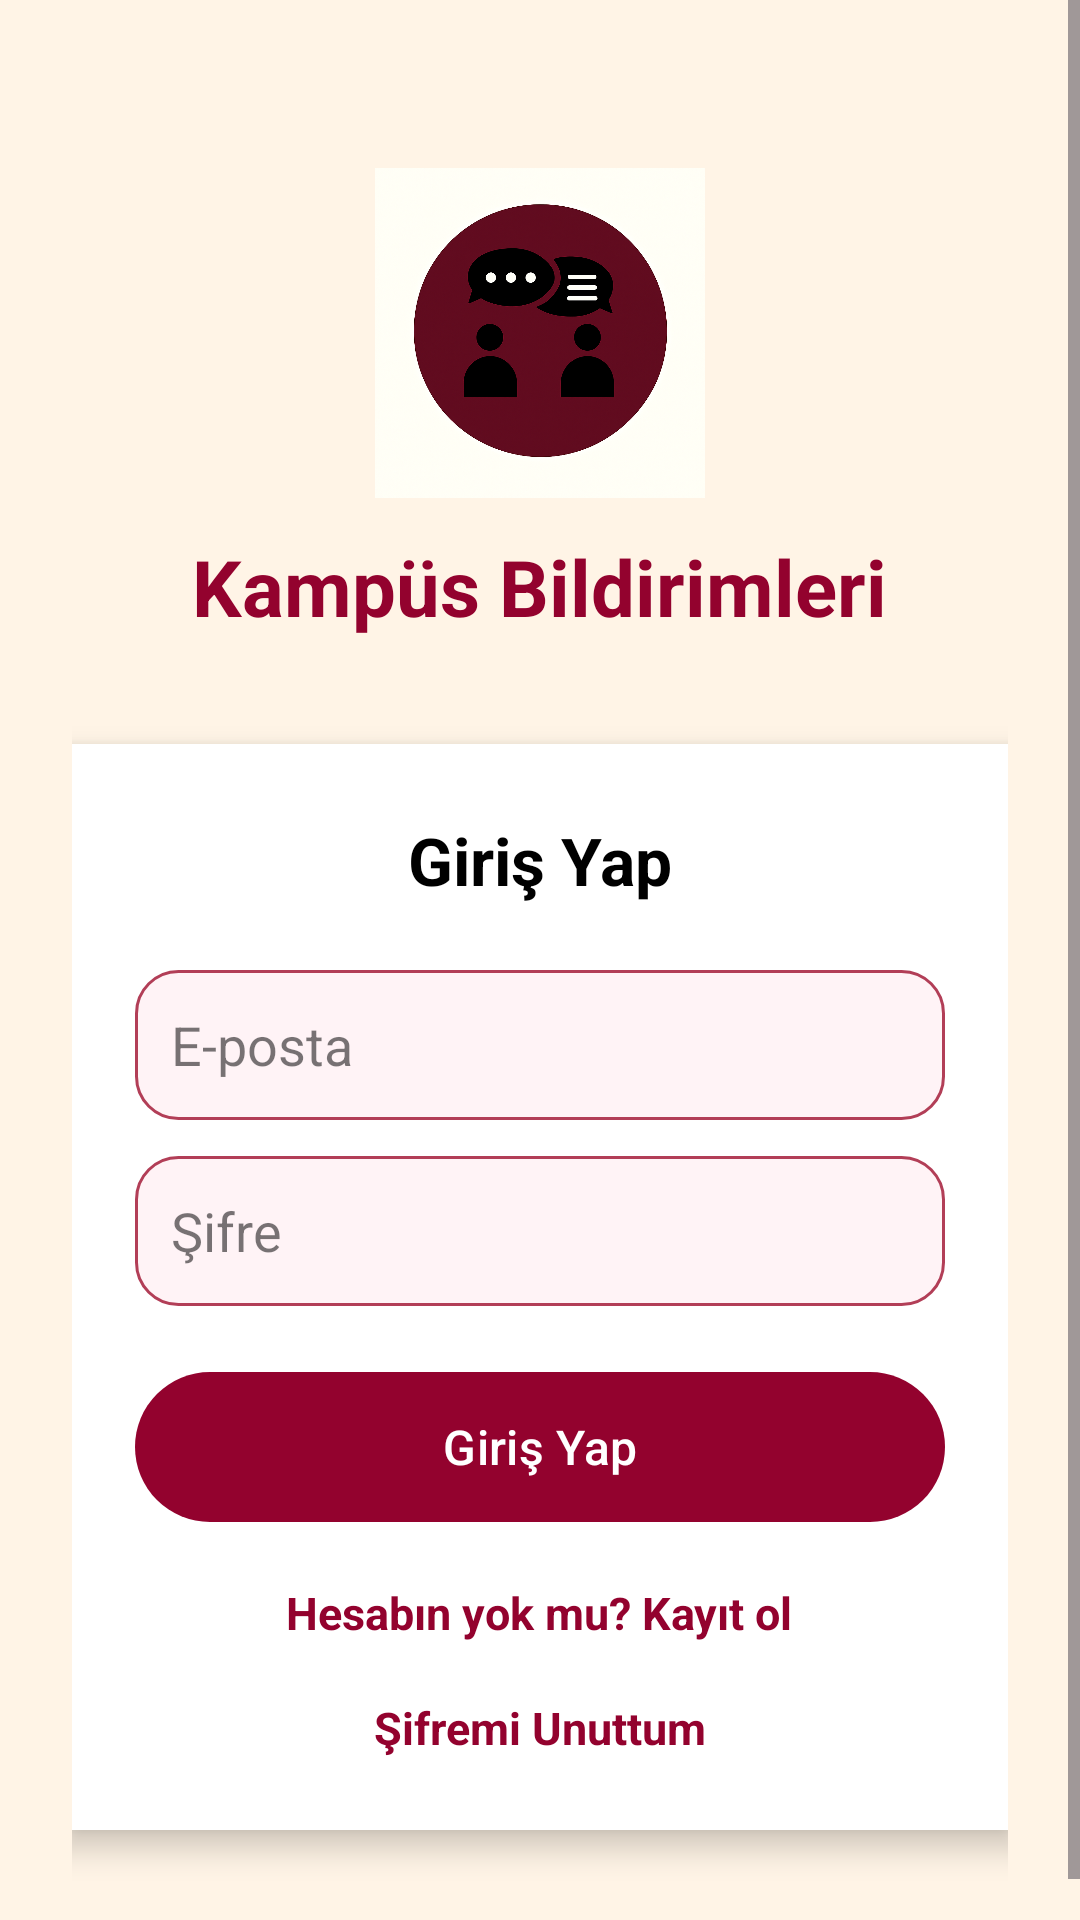

Named icons in this screenshot (1080×1920) and their centers, (x=x, y=y):
communication: (x=540, y=330)
